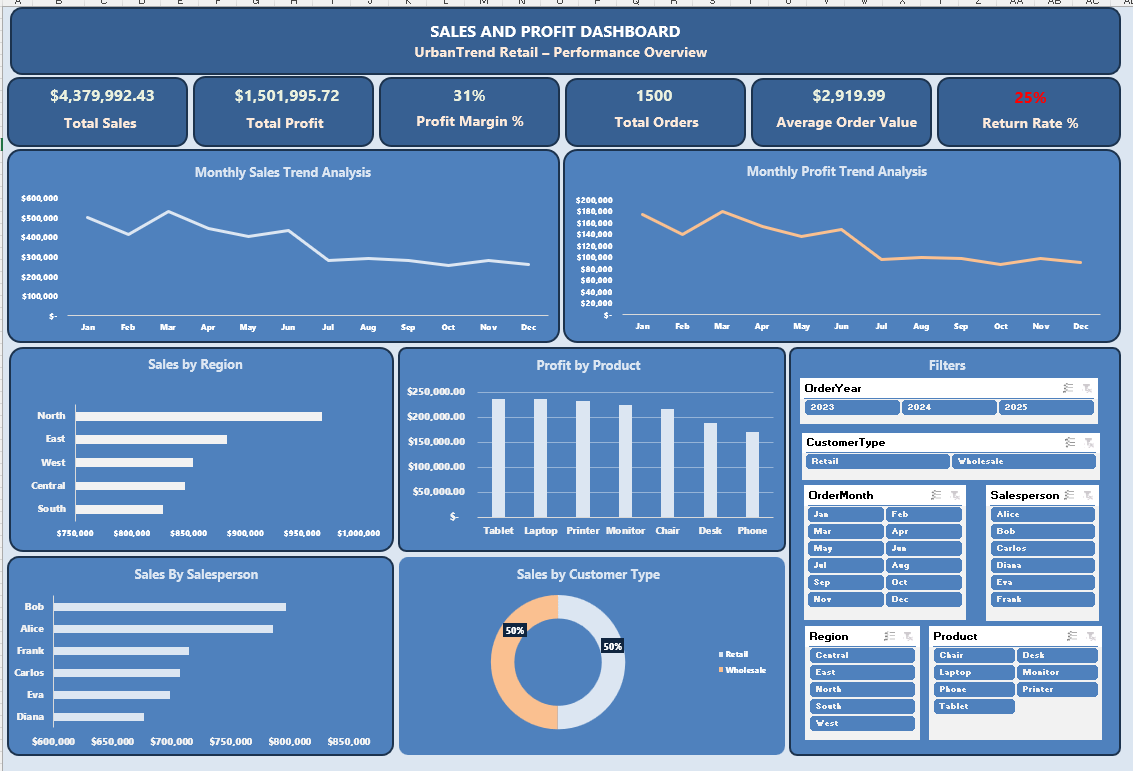

Layout of this report page (visuals, bound fields, positions):
{"tool":"powerbi","page":{"name":"Page 1","canvas":[1280,800],"ordinal":0},"visuals":[{"type":"textbox","title":"Sales & Profit Performance Dashboard","box":[7.1,0,1260,70],"z":0},{"type":"card","title":"Total Sales","fields":{"Values":["Product-Sales-Region.Total Sales"]},"box":[7.1,77.1,205,102.9],"z":1000},{"type":"card","title":"Profile","fields":{"Values":["Product-Sales-Region.Profit"]},"box":[220.9,77.1,205,102.9],"z":2000},{"type":"card","title":"Profit Margin","fields":{"Values":["Product-Sales-Region.Profit Margin"]},"box":[431.7,77.1,205,102.9],"z":3000},{"type":"card","title":"Total Orders","fields":{"Values":["Product-Sales-Region.Total Orders"]},"box":[642.6,77.1,205,102.9],"z":4000},{"type":"card","title":"Average Order Value","fields":{"Values":["Product-Sales-Region.Average Order Value"]},"box":[853.4,77.1,205,102.9],"z":5000},{"type":"card","title":"Return Rate","fields":{"Values":["Product-Sales-Region.Return Rate"]},"box":[1064.3,77.1,205.7,102.9],"z":6000},{"type":"lineChart","fields":{"Y":["Product-Sales-Region.Total Sales"],"Category":["Product-Sales-Region.Month"]},"box":[7.1,190,627.1,170],"z":7000},{"type":"barChart","fields":{"Y":["Product-Sales-Region.Total Sales"],"Category":["Product-Sales-Region.Region"]},"box":[850,370,420,194.3],"z":8000},{"type":"pieChart","fields":{"Category":["Product-Sales-Region.CustomerType"],"Y":["Product-Sales-Region.Total Sales"]},"box":[7.1,574.3,308,220],"z":9000},{"type":"columnChart","fields":{"Y":["Product-Sales-Region.Profit"],"Category":["Product-Sales-Region.Product"]},"box":[427.1,370,418,194.3],"z":10000},{"type":"barChart","fields":{"Y":["Product-Sales-Region.Total Sales"],"Category":["Product-Sales-Region.Salesperson"]},"box":[322.9,574.3,383,220],"z":11000},{"type":"lineChart","fields":{"Y":["Product-Sales-Region.Profit"],"Category":["Product-Sales-Region.Month"]},"box":[642.9,190,627.1,170],"z":12000},{"type":"advancedSlicerVisual","fields":{"Values":["Product-Sales-Region.Year"]},"box":[710,574.3,245.7,60],"z":13000},{"type":"advancedSlicerVisual","fields":{"Values":["Product-Sales-Region.CustomerType"]},"box":[710,730,250,64.3],"z":14000},{"type":"listSlicer","fields":{"Values":["Product-Sales-Region.Salesperson"]},"box":[1148.6,574.3,121.4,220],"z":15000},{"type":"advancedSlicerVisual","fields":{"Values":["Product-Sales-Region.Month"]},"box":[710,630,245.7,100],"z":16000},{"type":"listSlicer","fields":{"Values":["Product-Sales-Region.Product"]},"box":[955.7,574.3,192.9,220],"z":17000},{"type":"cardVisual","title":"Key Ideas","fields":{"Data":["Product-Sales-Region.Key Ideas"]},"box":[7.1,370,415.7,194.3],"z":18000}]}

Visuals, with their boxes on the page's 1280x800 design canvas (x1, y1, x2, y2). These are canvas units, not pixel positions in the 1133x771 screenshot, which may show the page scaled, cropped or inside an application window:
"Sales & Profit Performance Dashboard" textbox: [left=7, top=0, right=1267, bottom=70]
"Total Sales" card: [left=7, top=77, right=212, bottom=180]
"Profile" card: [left=221, top=77, right=426, bottom=180]
"Profit Margin" card: [left=432, top=77, right=637, bottom=180]
"Total Orders" card: [left=643, top=77, right=848, bottom=180]
"Average Order Value" card: [left=853, top=77, right=1058, bottom=180]
"Return Rate" card: [left=1064, top=77, right=1270, bottom=180]
lineChart - Product-Sales-Region.Total Sales x Product-Sales-Region.Month: [left=7, top=190, right=634, bottom=360]
barChart - Product-Sales-Region.Total Sales x Product-Sales-Region.Region: [left=850, top=370, right=1270, bottom=564]
pieChart - Product-Sales-Region.CustomerType x Product-Sales-Region.Total Sales: [left=7, top=574, right=315, bottom=794]
columnChart - Product-Sales-Region.Profit x Product-Sales-Region.Product: [left=427, top=370, right=845, bottom=564]
barChart - Product-Sales-Region.Total Sales x Product-Sales-Region.Salesperson: [left=323, top=574, right=706, bottom=794]
lineChart - Product-Sales-Region.Profit x Product-Sales-Region.Month: [left=643, top=190, right=1270, bottom=360]
advancedSlicerVisual - Product-Sales-Region.Year: [left=710, top=574, right=956, bottom=634]
advancedSlicerVisual - Product-Sales-Region.CustomerType: [left=710, top=730, right=960, bottom=794]
listSlicer - Product-Sales-Region.Salesperson: [left=1149, top=574, right=1270, bottom=794]
advancedSlicerVisual - Product-Sales-Region.Month: [left=710, top=630, right=956, bottom=730]
listSlicer - Product-Sales-Region.Product: [left=956, top=574, right=1149, bottom=794]
"Key Ideas" cardVisual: [left=7, top=370, right=423, bottom=564]
